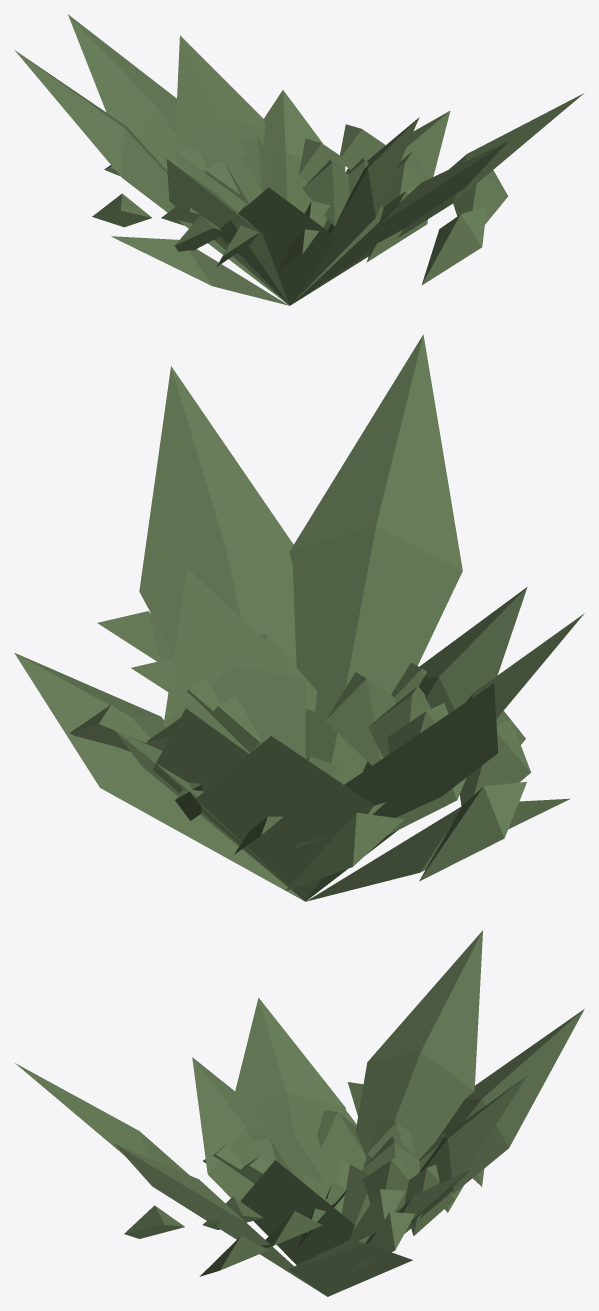
Rendered from Decor_Ferns.fbx.
3 views of the same model, one above another, from view 1: azimuth 30°, elevation 25°; view 2: azimuth 150°, elevation 25°; view 3: azimuth 270°, elevation 25° (orthographic). The views are drawn at different scales.
Visible parts, largest first — view 1: Decor_Ferns; view 2: Decor_Ferns; view 3: Decor_Ferns.
Part boxes in pixels (x1,y1,x2,y2): Decor_Ferns: [14, 14, 583, 305]; Decor_Ferns: [14, 334, 584, 901]; Decor_Ferns: [15, 930, 584, 1296].
Size of the model in its own units: 1.2 by 0.7497 by 1.44.
